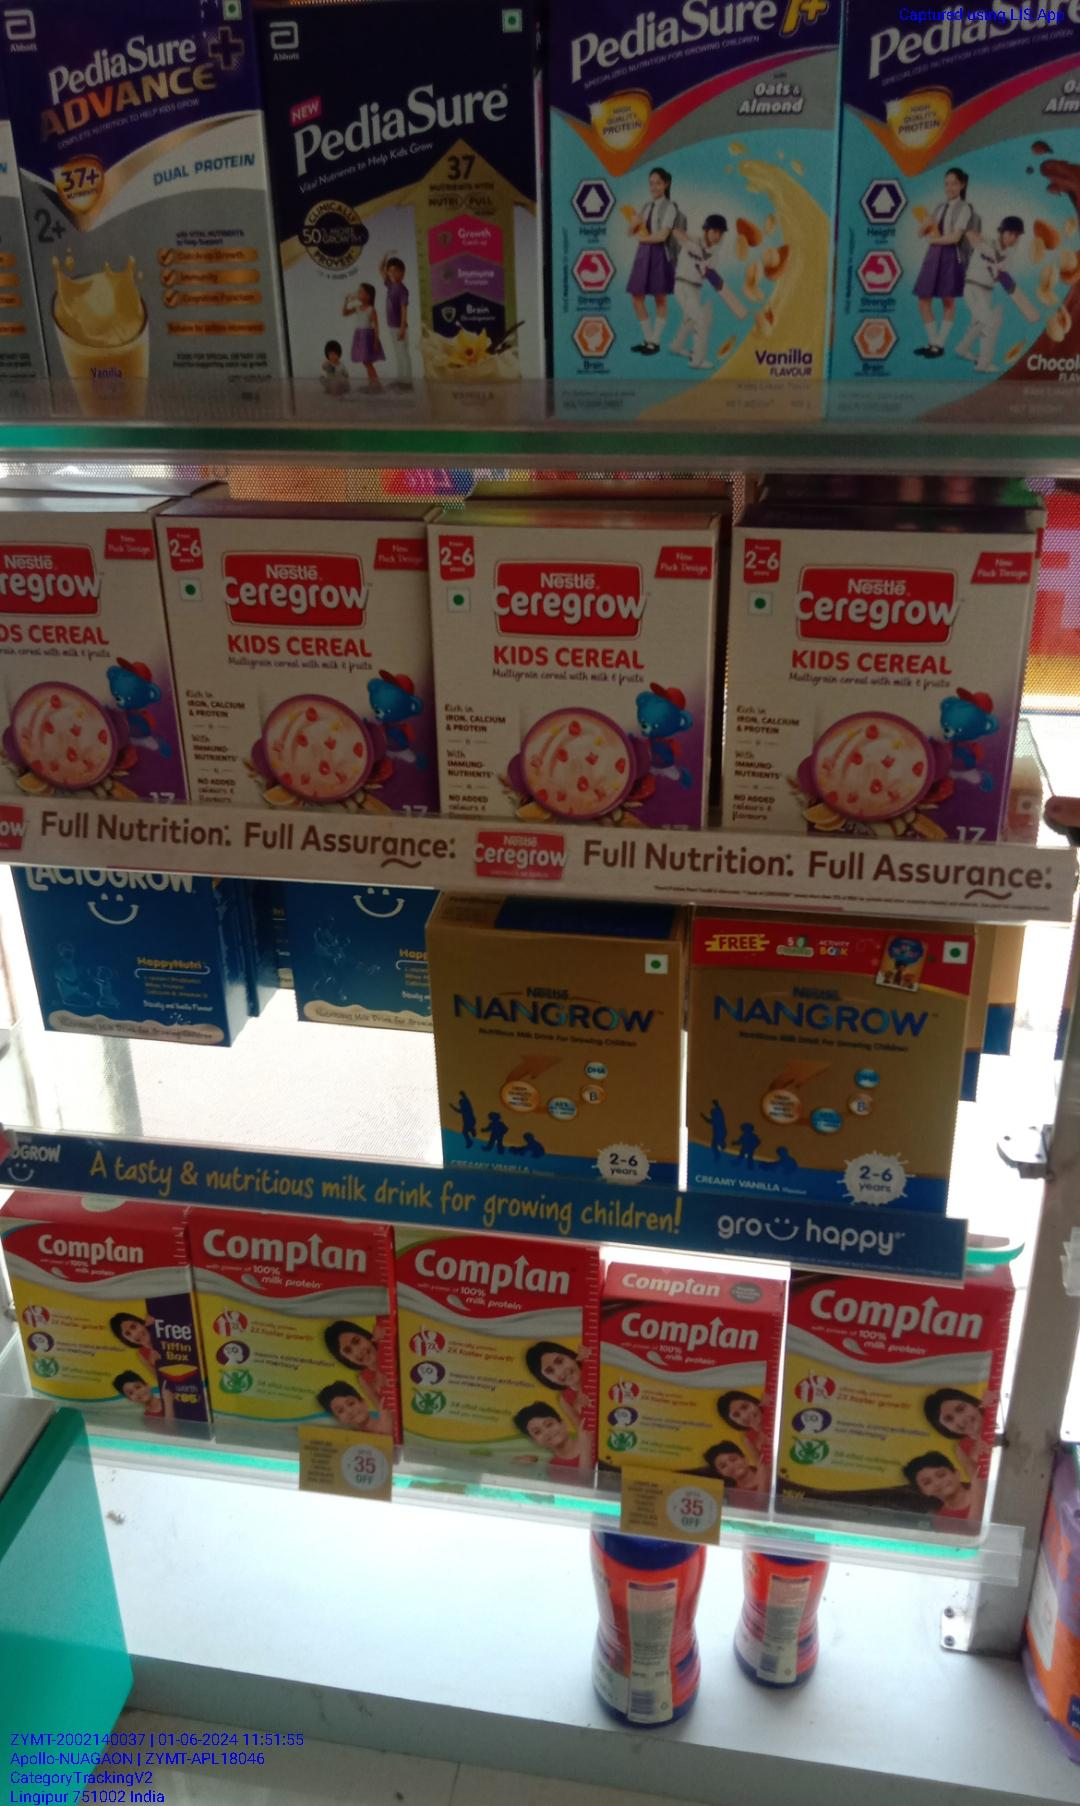COMPLAN_CHOCOLATE_200_GMS_PACK: (599, 1292, 770, 1519)
COMPLAN_CHOCOLATE_500_GMS_PACK: (783, 1262, 994, 1542)
COMPLAN_CREAMY_CLASSIC_500_G_PACK: (195, 1211, 395, 1447)
COMPLAN_PISTA_BADAM_500_GMS_PACK: (402, 1233, 594, 1489), (5, 1195, 193, 1442)
